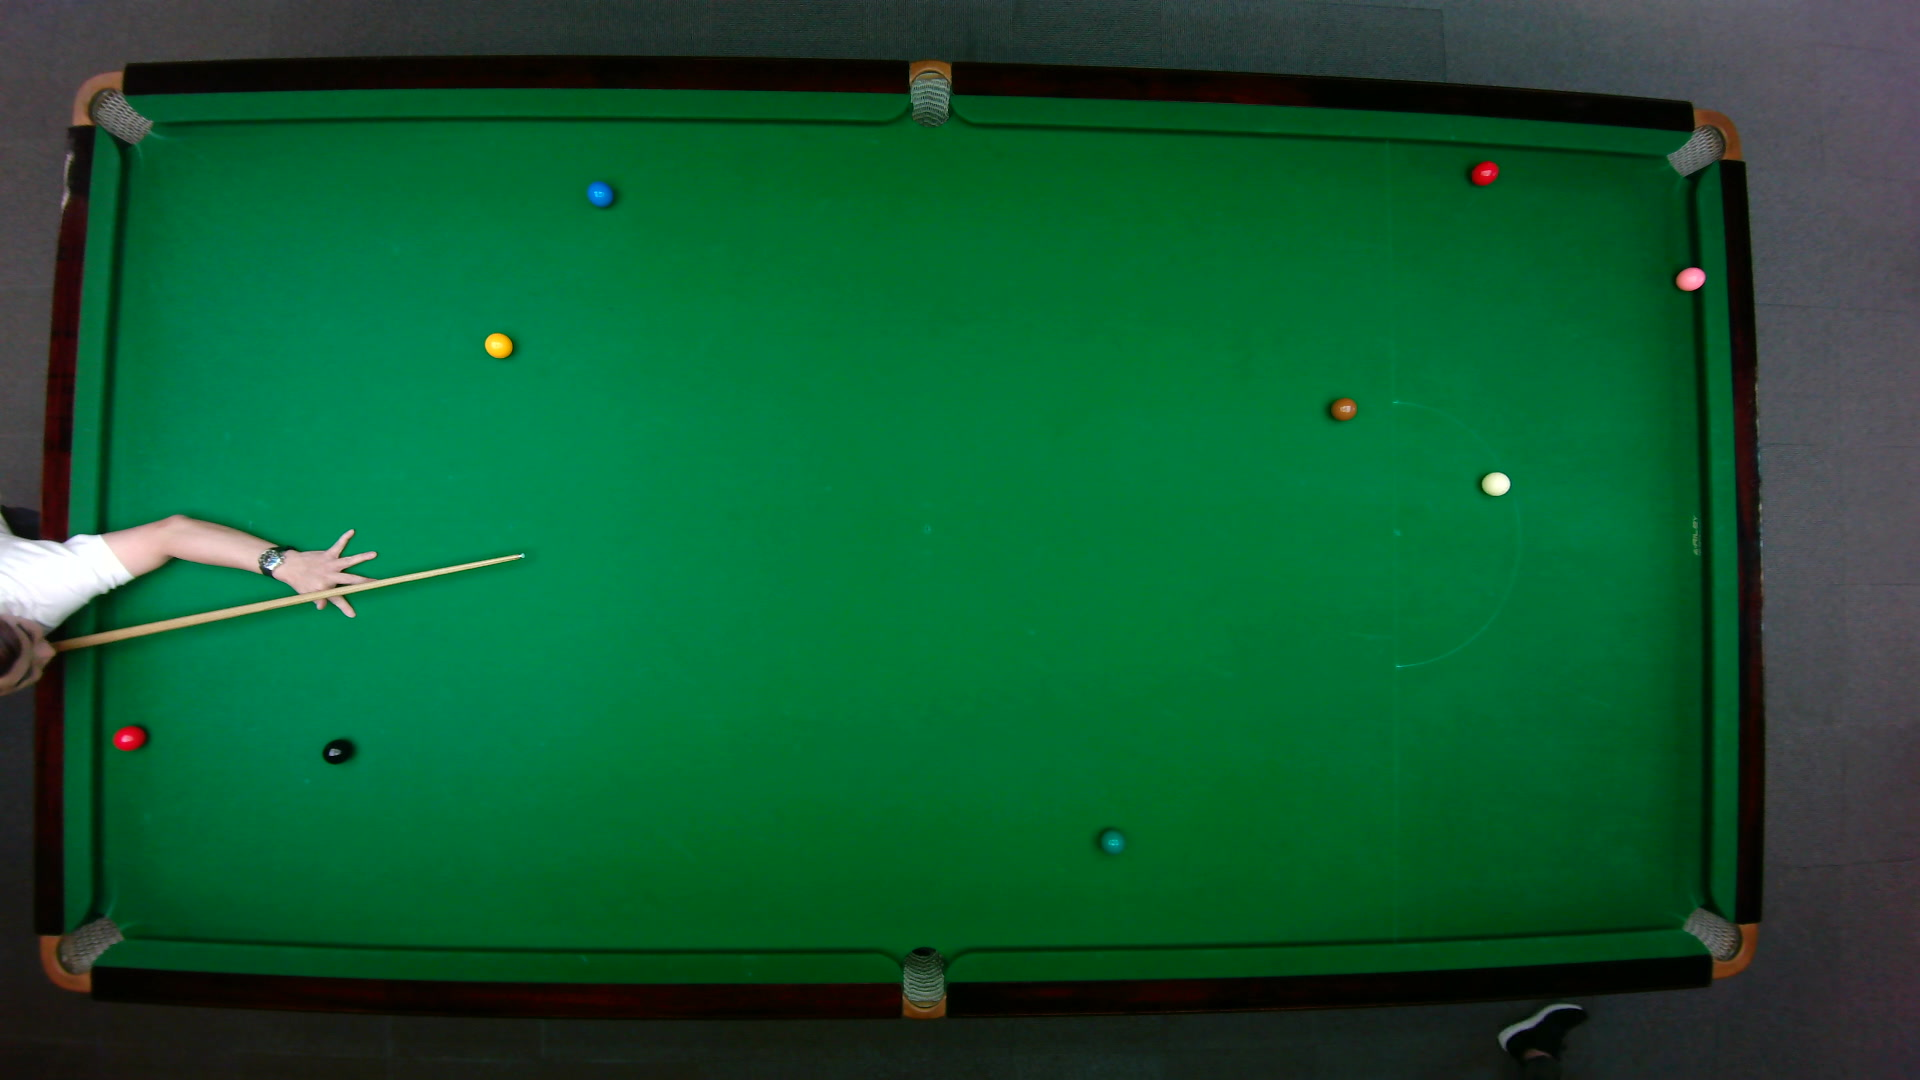bag: (38, 914, 125, 992), (69, 69, 153, 145), (1679, 905, 1758, 978), (1663, 107, 1741, 177), (901, 944, 944, 1021), (909, 57, 949, 127)
black: (320, 737, 352, 765)
blue: (584, 179, 615, 207)
brown: (1328, 396, 1358, 421)
cue: (21, 551, 524, 658)
green: (1097, 825, 1126, 855)
pink: (1673, 264, 1706, 291)
red: (109, 723, 146, 752), (1468, 158, 1501, 186)
white: (1480, 469, 1511, 496)
yellow: (483, 328, 514, 359)
zone: (1390, 398, 1519, 669)
